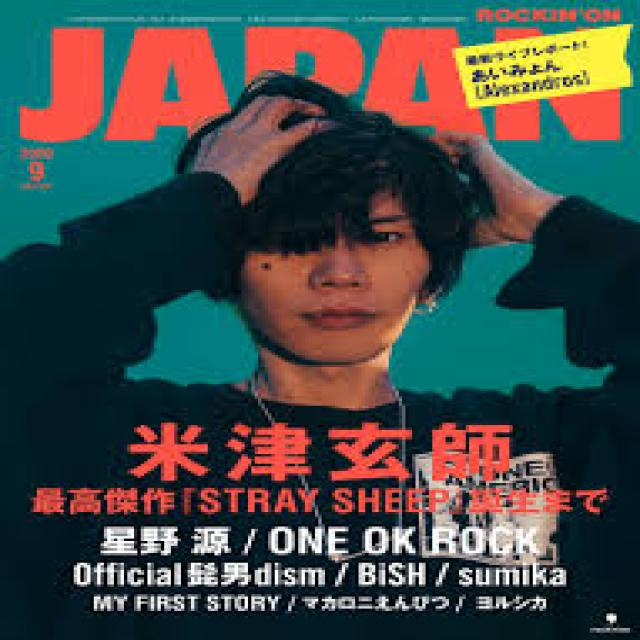paper: (3, 2, 627, 251), (3, 386, 553, 635), (395, 246, 600, 391), (131, 292, 251, 384)
